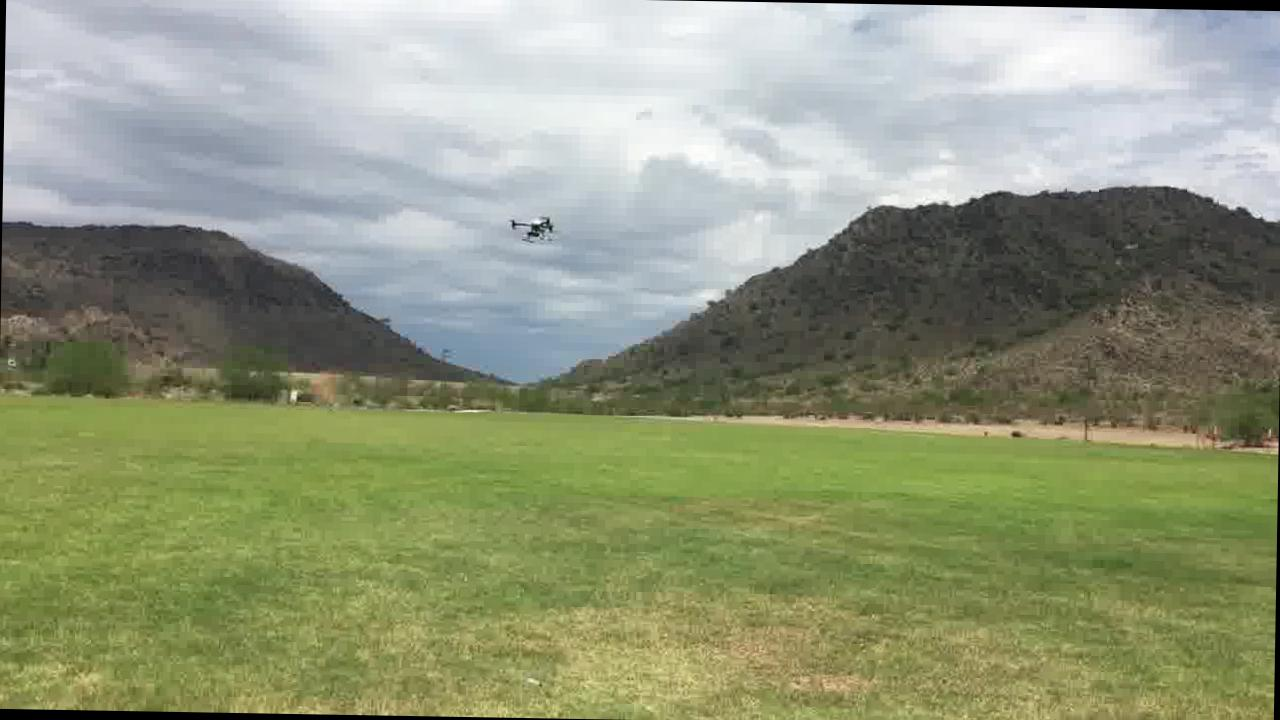drone: (504, 207, 560, 242)
